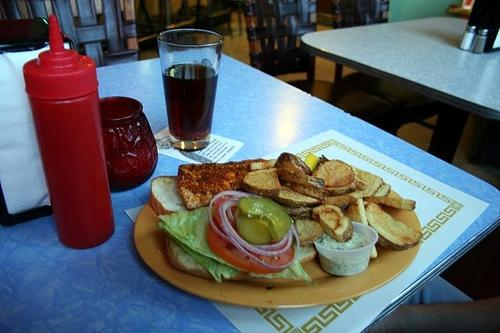onion: (218, 197, 300, 270), (208, 190, 288, 250), (222, 199, 293, 256)
potato: (365, 200, 424, 252), (312, 205, 353, 243), (347, 164, 384, 199), (311, 160, 355, 188), (242, 168, 282, 198), (272, 184, 320, 208), (278, 168, 324, 189), (294, 215, 324, 244), (277, 152, 313, 176), (363, 196, 416, 211), (344, 197, 368, 226), (320, 194, 356, 212), (290, 184, 330, 200), (370, 182, 392, 198), (282, 207, 312, 218), (249, 160, 276, 170)
tomato: (207, 225, 294, 274), (212, 194, 234, 236)
